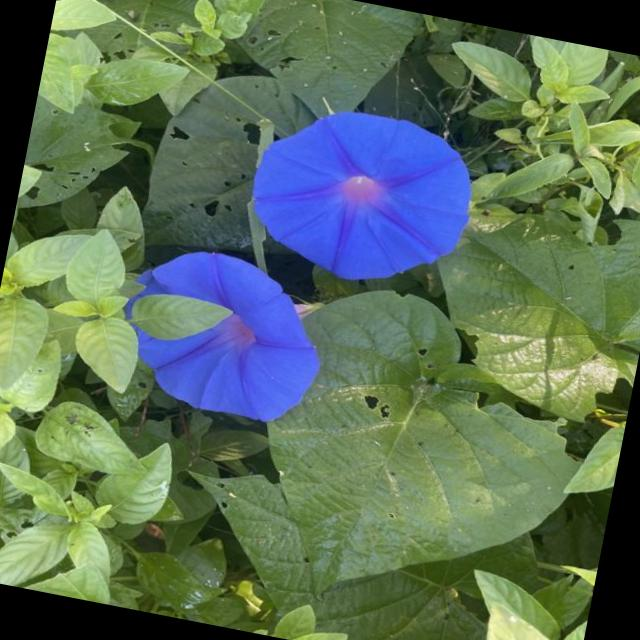ipomoea: (235, 90, 490, 304), (105, 234, 342, 434)
